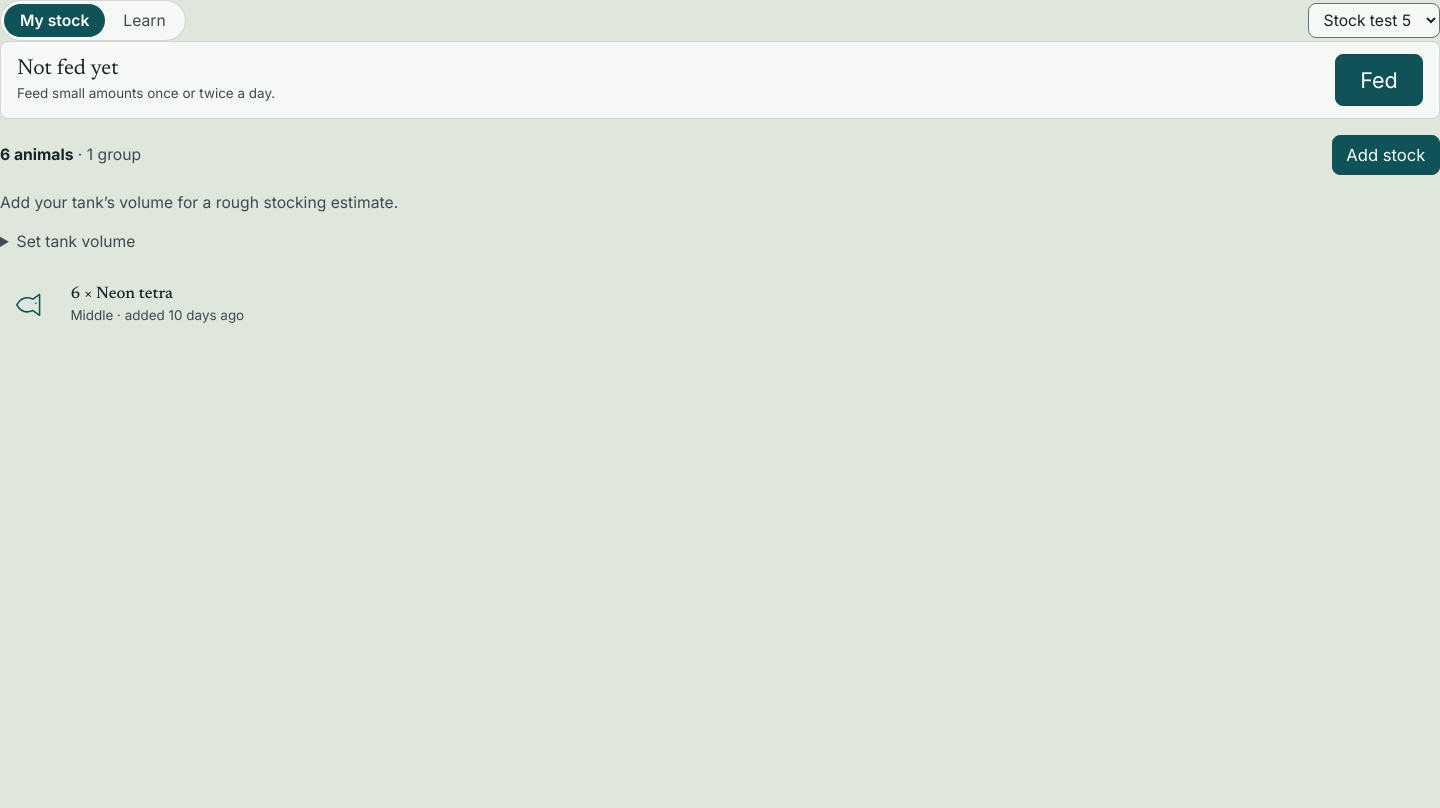
Scenario: group detail › lost reduces the count in the same step and logs history
The image size is (1440, 808).
Check: the navigation bar named "Stock sections" is shown, box x1=0 y1=0 x2=186 y2=41
Click the link "6 × Neon tetra Middle · added 10 days ago" at (128, 304), box x1=12 y1=284 x2=244 y2=325
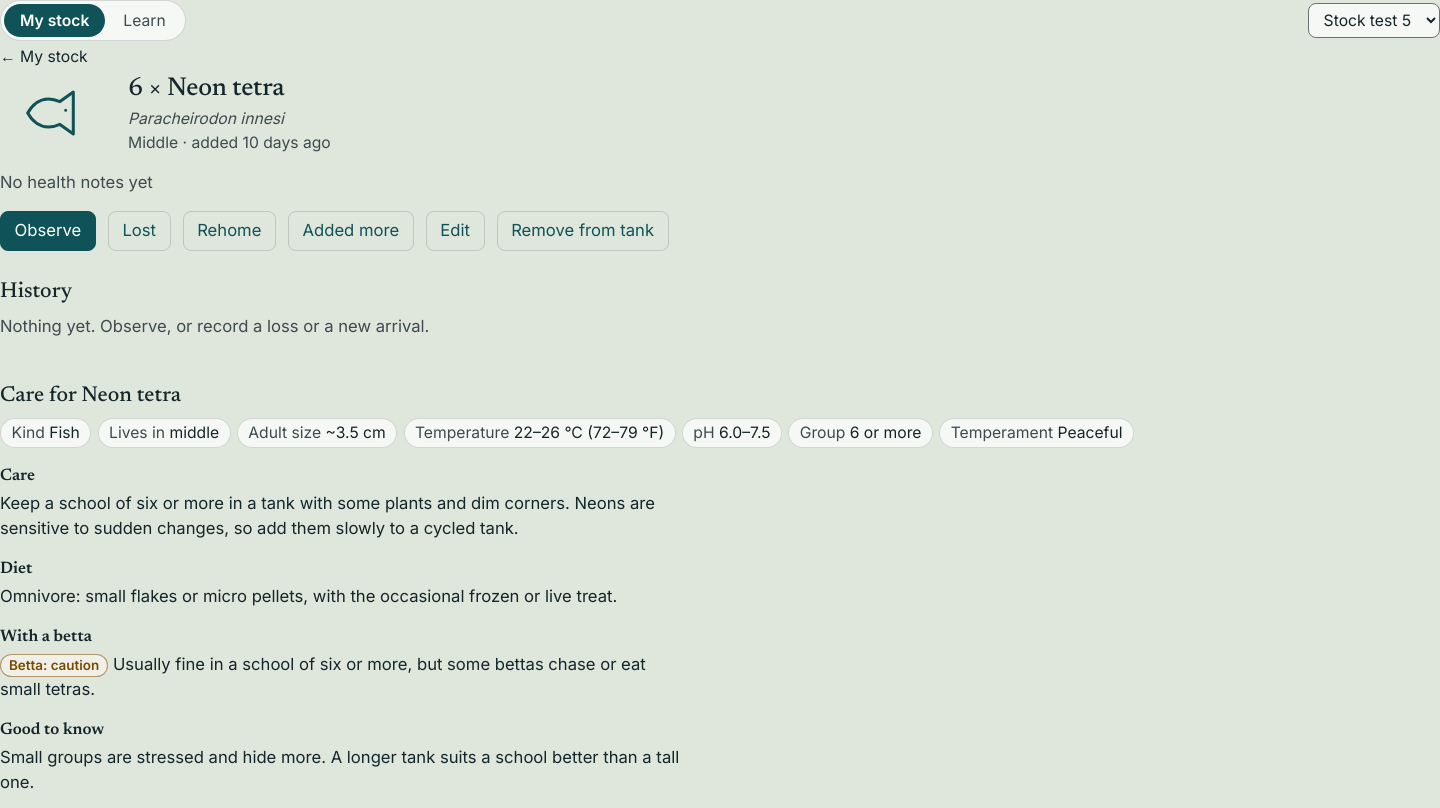
Click the button "Lost" at (139, 231), box x1=108 y1=211 x2=171 y2=251
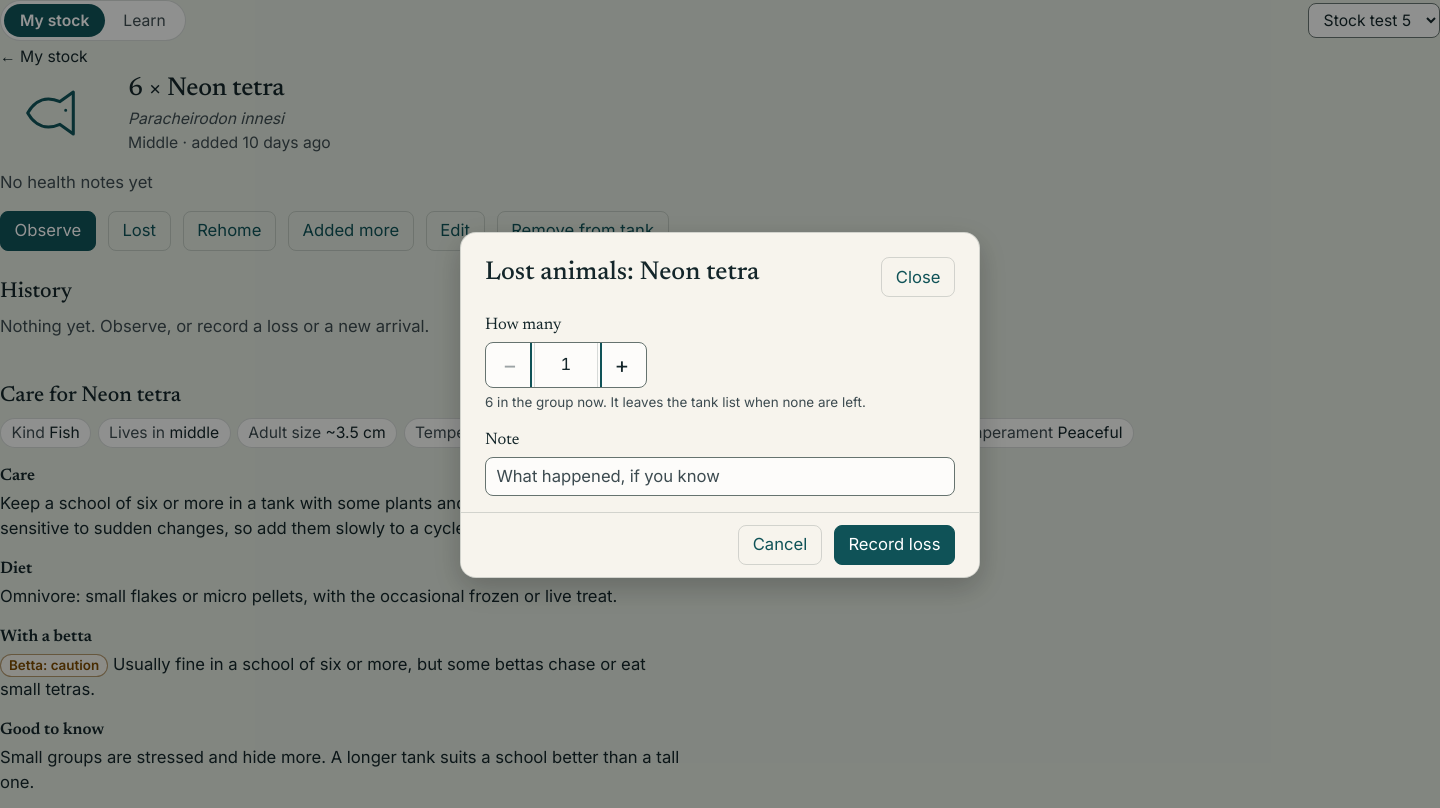
Click the button named "More animals" at (622, 365), box x1=598 y1=343 x2=646 y2=387
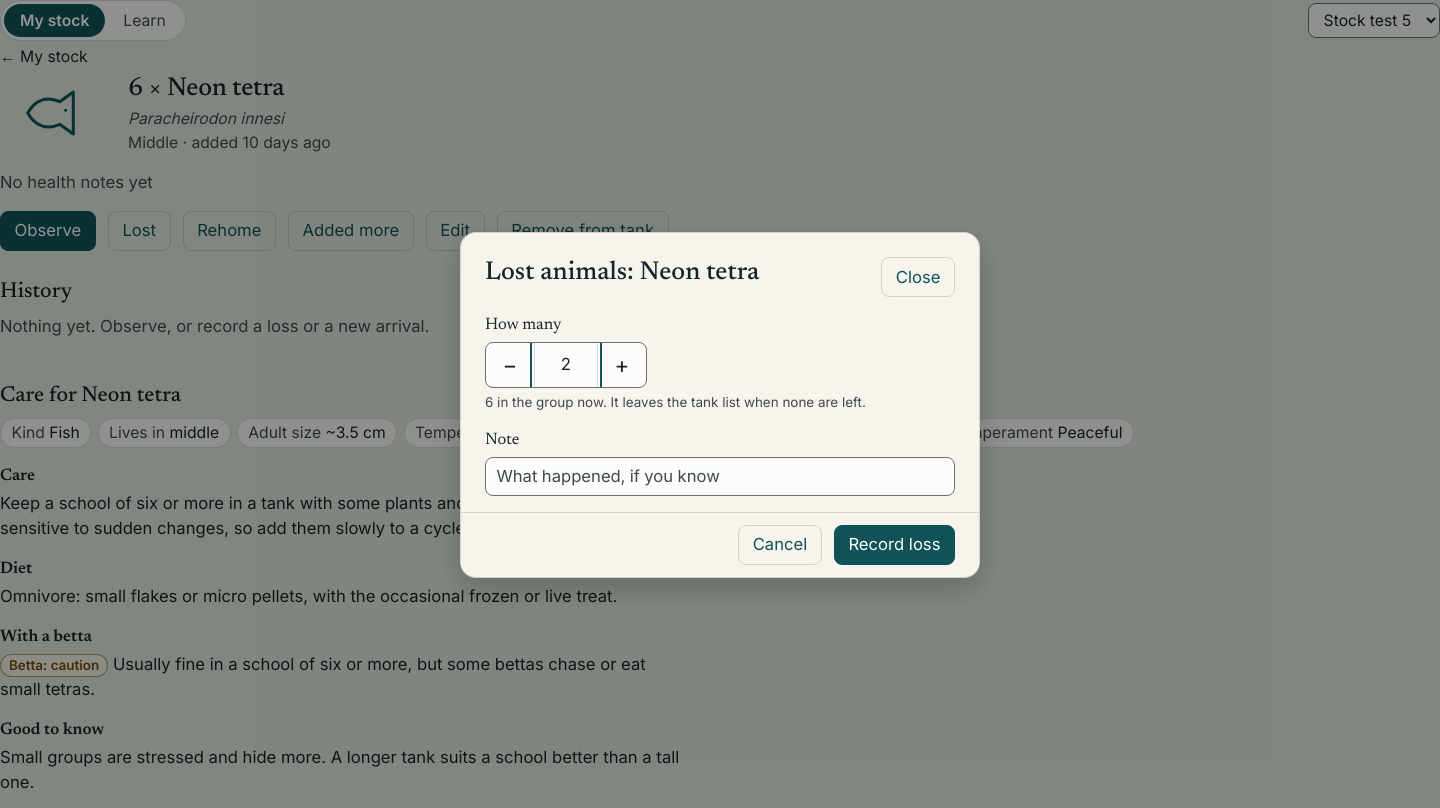
Type "jumped out" into the field labelled "Note" at (720, 477), box x1=485 y1=457 x2=955 y2=496
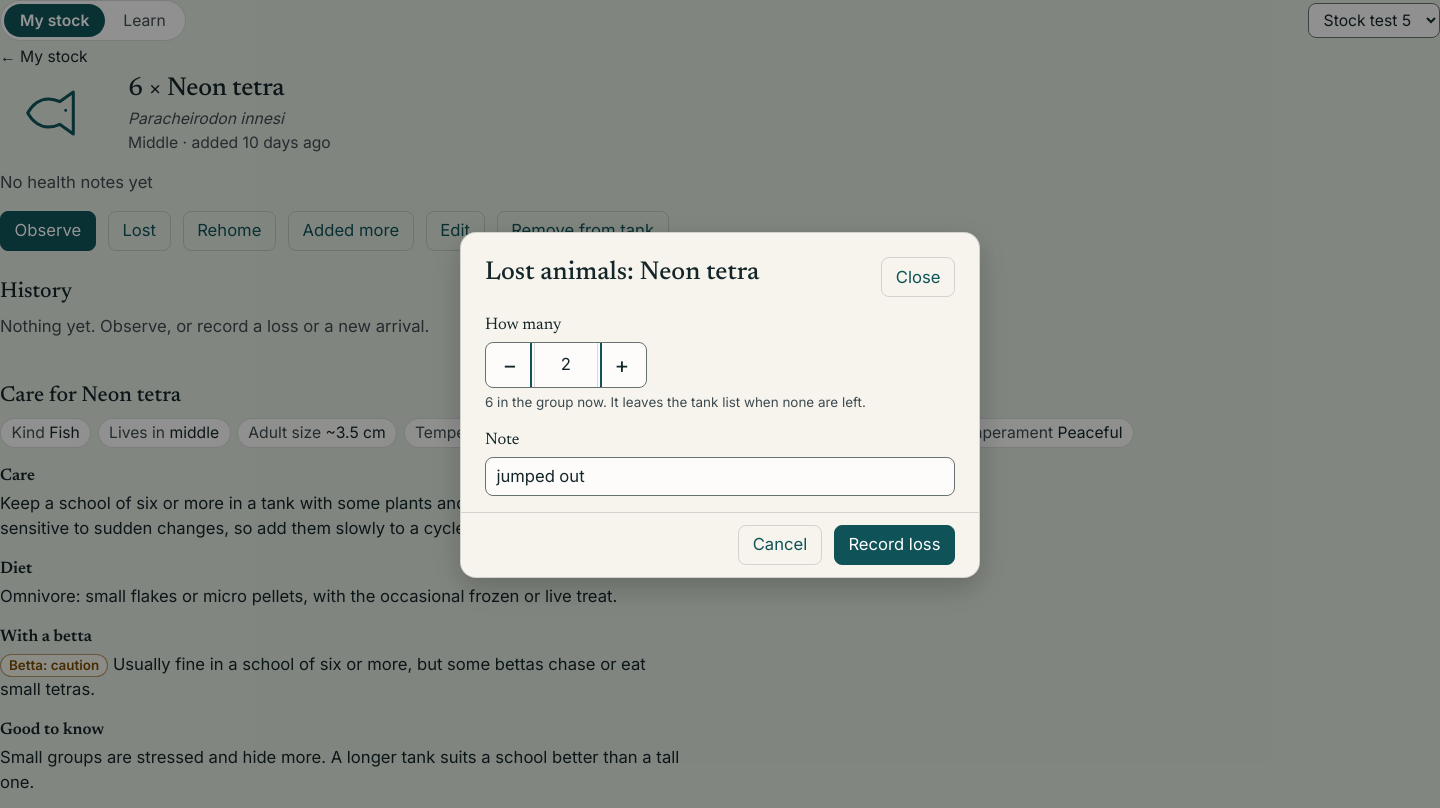
Click the button "Record loss" at (894, 545), box x1=834 y1=525 x2=955 y2=565
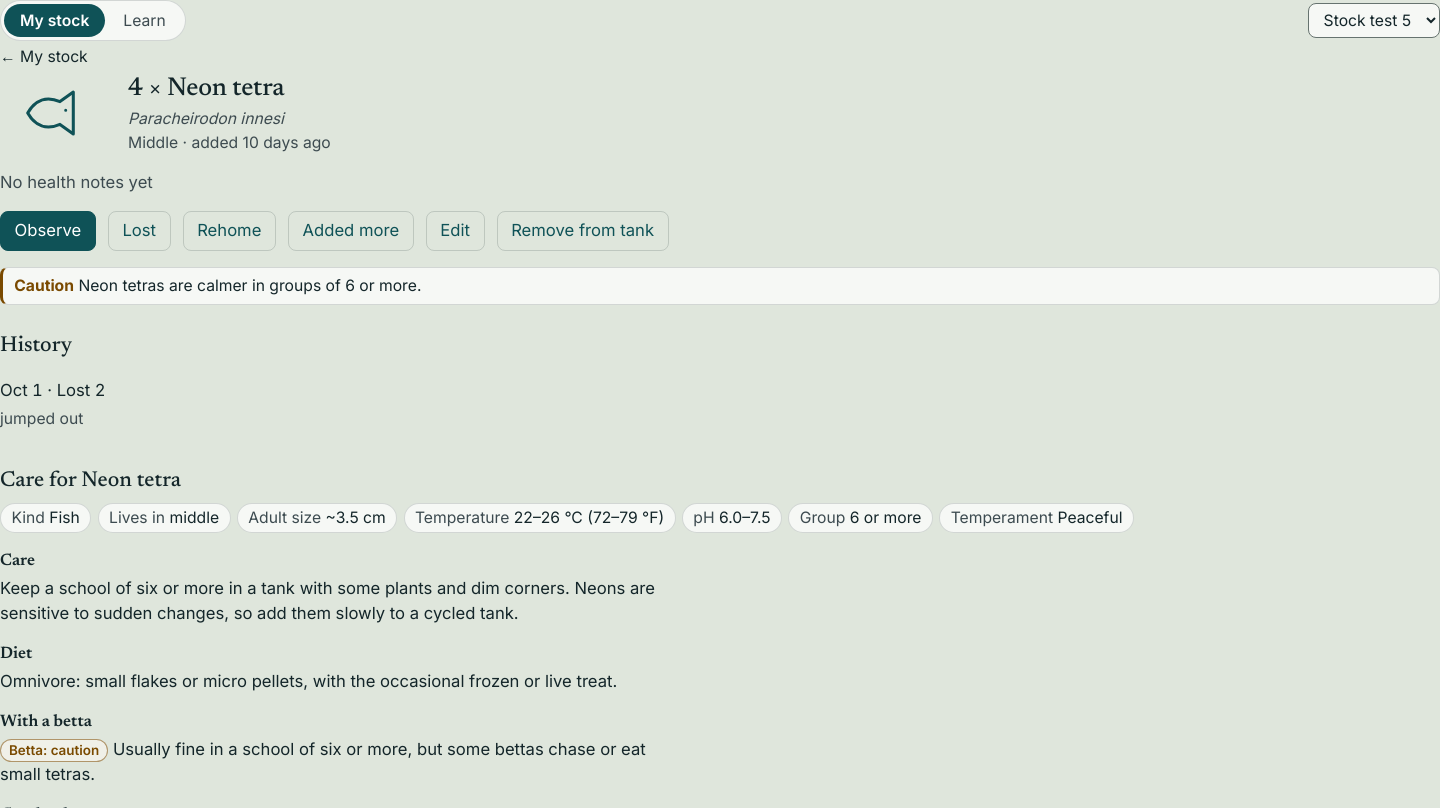
Check: the dialog is gone
Check: the heading "4 × Neon tetra" is shown, box x1=128 y1=76 x2=284 y2=102
Check: the text "Lost 2" is shown, box x1=57 y1=380 x2=105 y2=400
